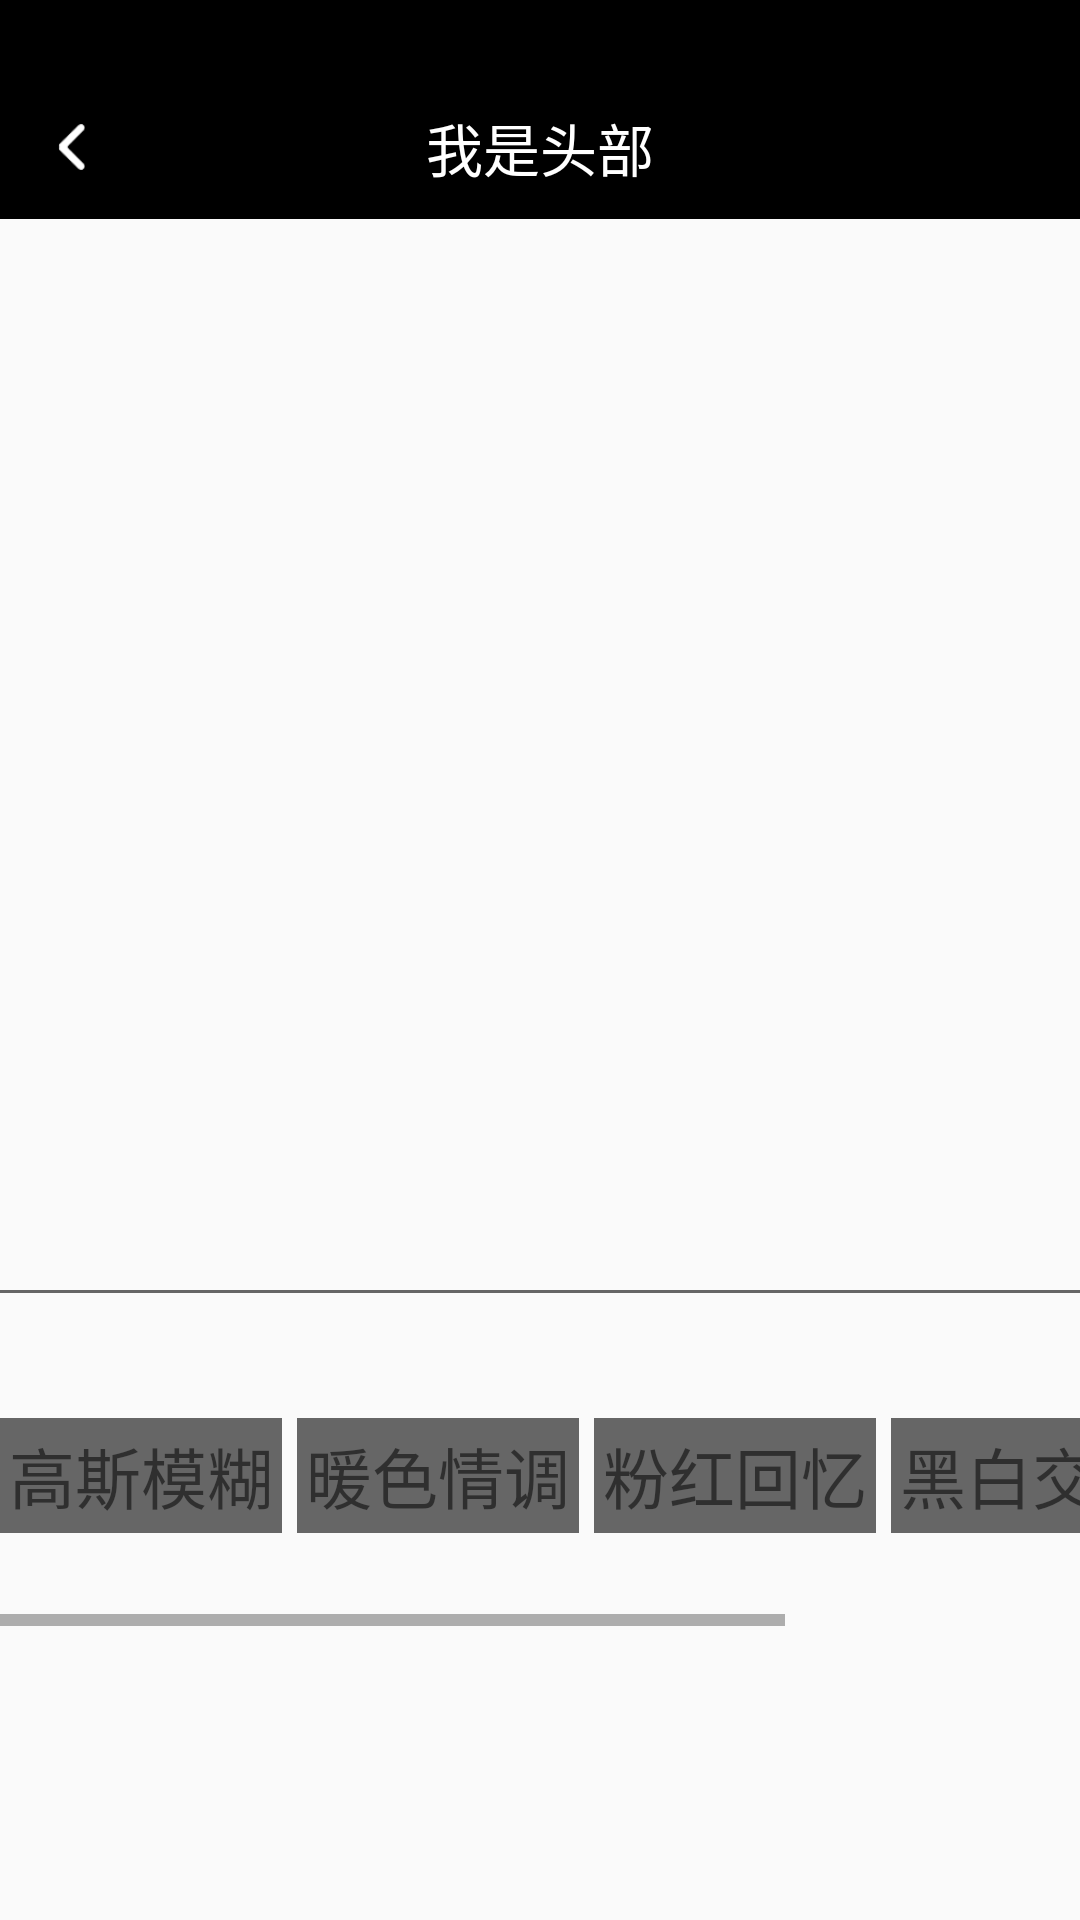

Named icons in this screenshot (1080px×1920px) and their centers, (x,y):
title back: (72,147)
